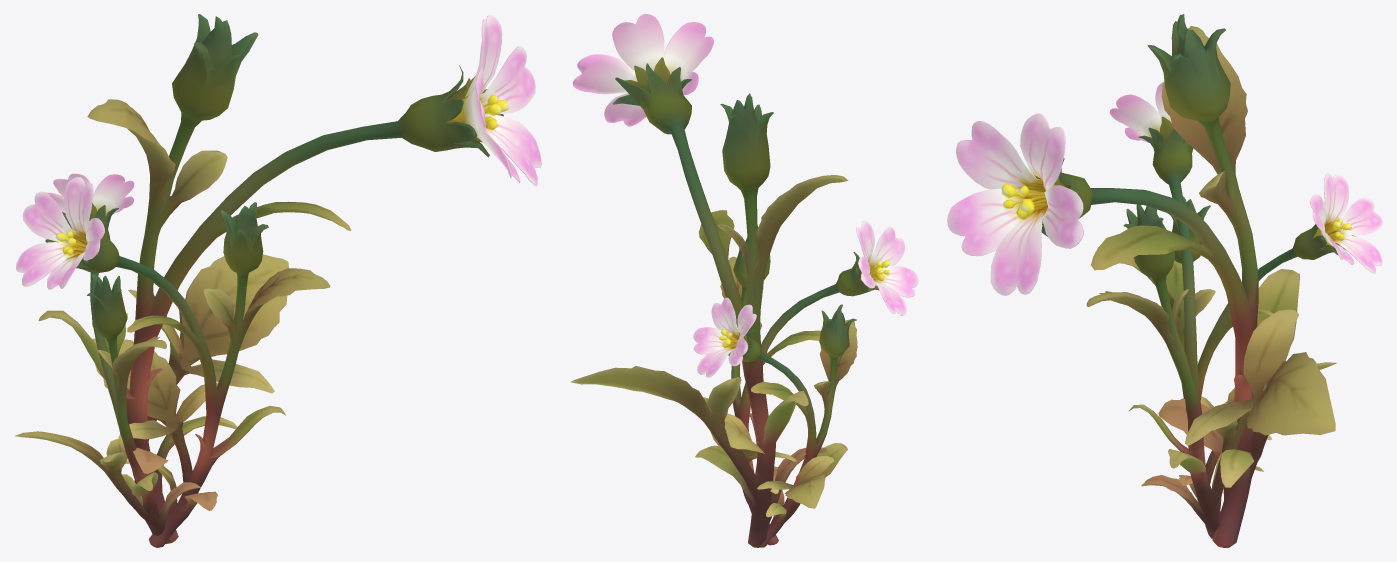
Rendered from flowering_plant.glb.
3 renders of one model, left to right at view 1: azimuth 30°, elevation 25°; view 2: azimuth 150°, elevation 25°; view 3: azimuth 270°, elevation 25°, orthographic. The views are drawn at different scales.
Parts seen in each view (by area): view 1: Cylinder, Cylinder.002, Cylinder.001; view 2: Cylinder, Cylinder.001, Cylinder.002; view 3: Cylinder, Cylinder.002, Cylinder.001.
Part boxes in pixels (box(x1,y1,x2,y2)): Cylinder: box(38, 14, 541, 543); Cylinder.002: box(16, 177, 330, 547); Cylinder.001: box(15, 173, 200, 535); Cylinder: box(570, 14, 848, 547); Cylinder.001: box(693, 297, 857, 547); Cylinder.002: box(710, 220, 918, 545); Cylinder: box(947, 14, 1335, 547); Cylinder.002: box(1086, 81, 1336, 538); Cylinder.001: box(1120, 173, 1382, 513).
Size of the model in its own units: 0.7229 by 0.8018 by 0.5789.
1 material, 1 textured.
